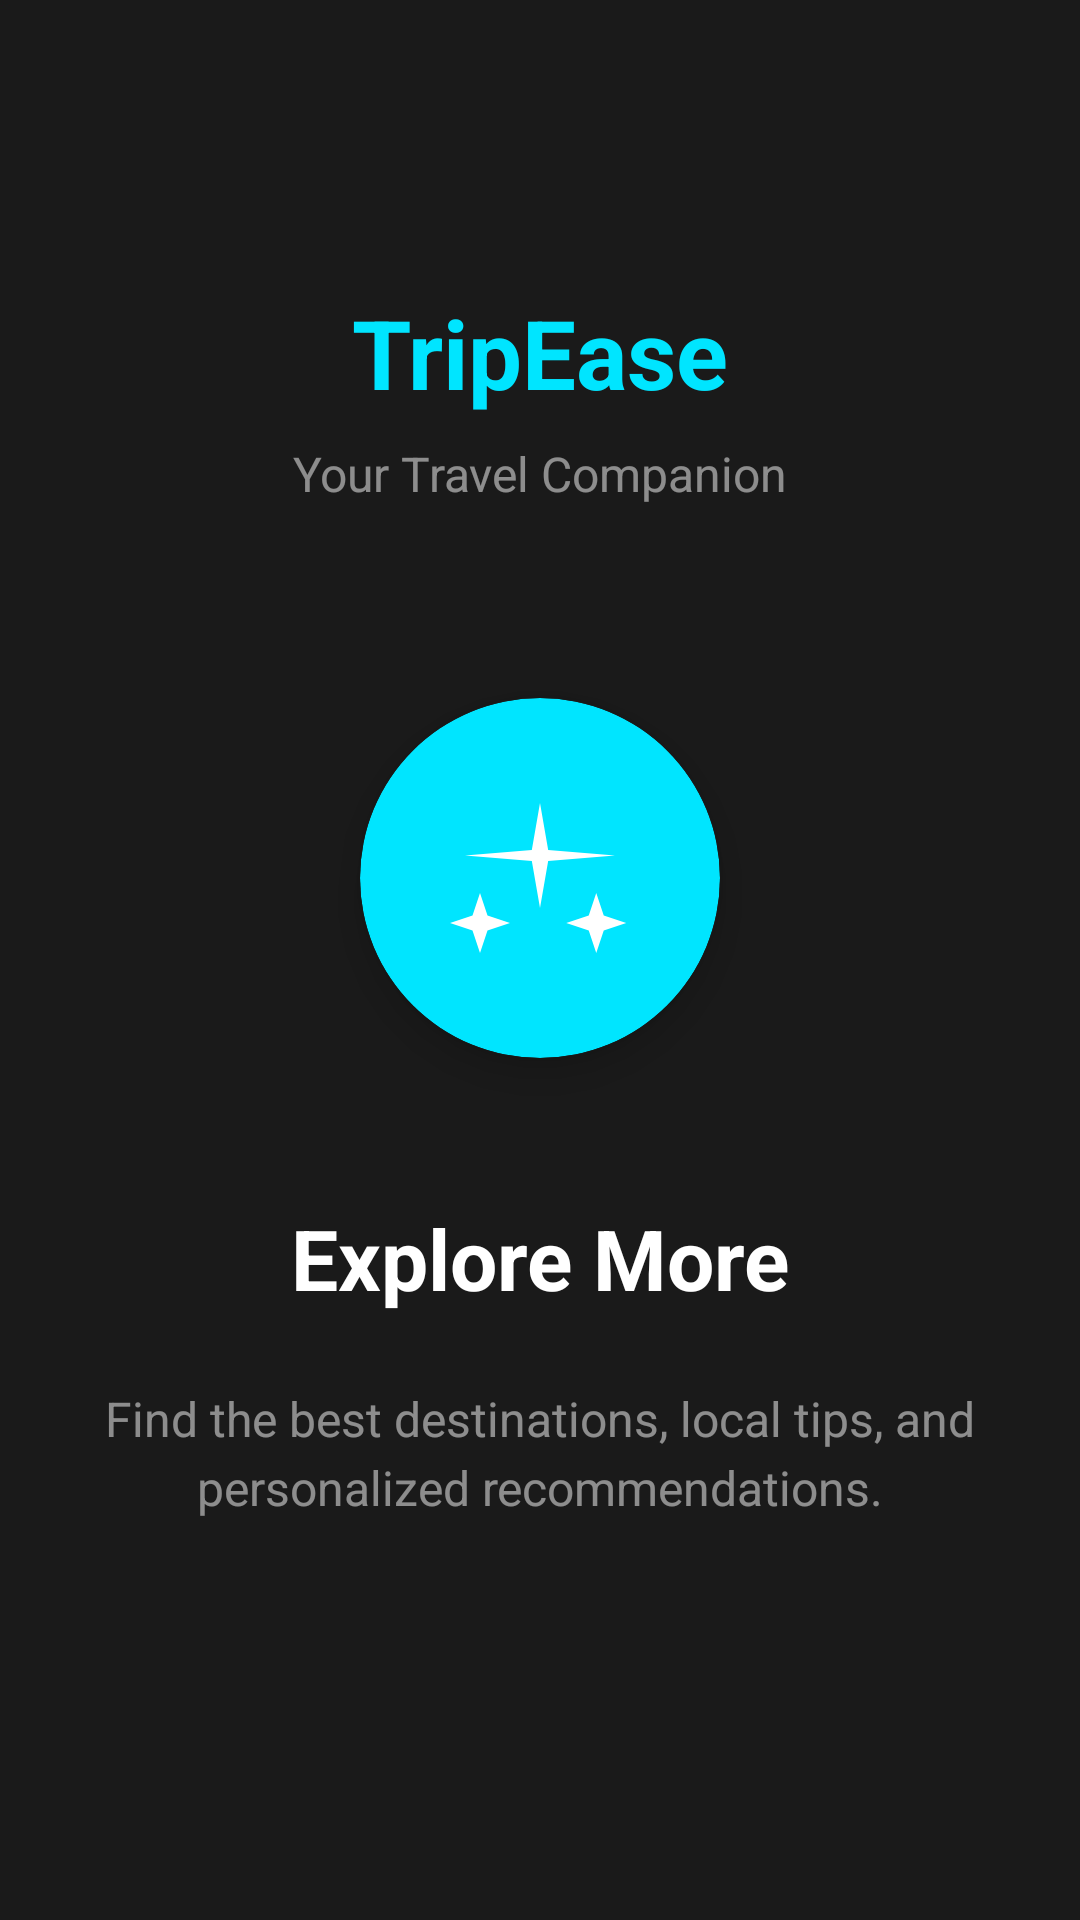

Icons on this 1080x1920 Android screen, each with the point to tap as point (x, y):
explore more: point (538, 878)
